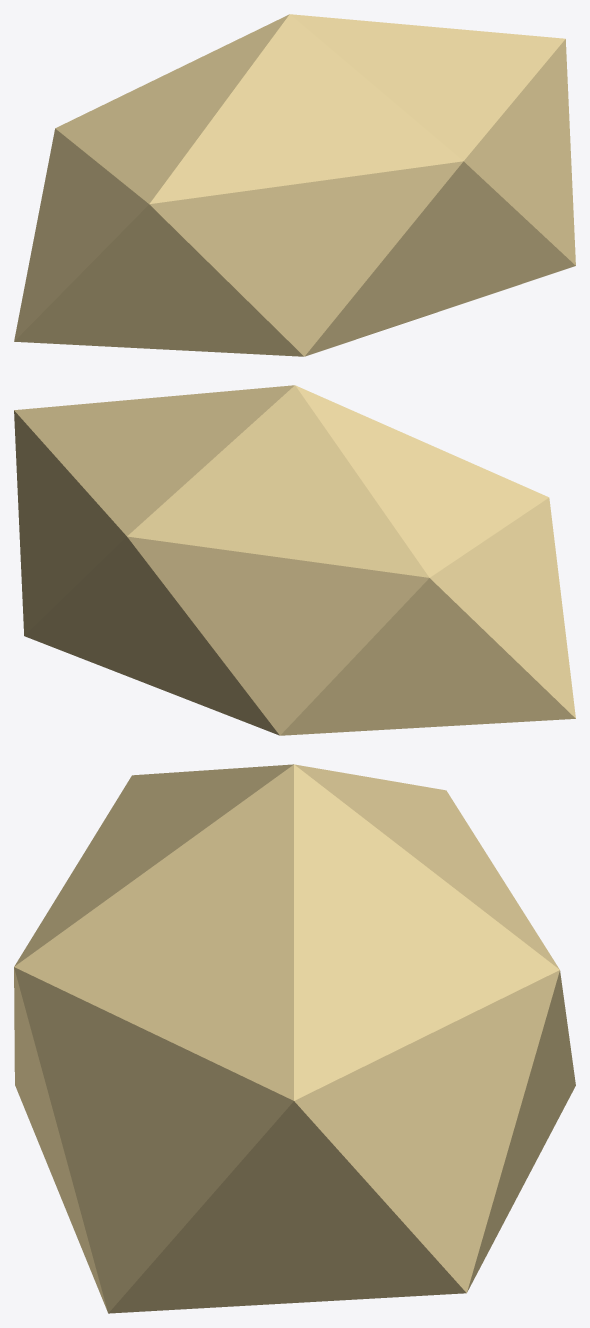
The model's file is item_059_barley_s.glb.
3 views of the same model, one above another, from view 1: azimuth 30°, elevation 25°; view 2: azimuth 150°, elevation 25°; view 3: azimuth 270°, elevation 25° (orthographic). The views are drawn at different scales.
Visible parts, largest first — view 1: item_059_barley_s; view 2: item_059_barley_s; view 3: item_059_barley_s.
Part boxes in pixels (box(x1,y1,x2,y2)): item_059_barley_s: box(14, 14, 575, 356); item_059_barley_s: box(14, 385, 575, 735); item_059_barley_s: box(14, 764, 575, 1313).
Size of the model in its own units: 0.3525 by 0.1975 by 0.2093.
